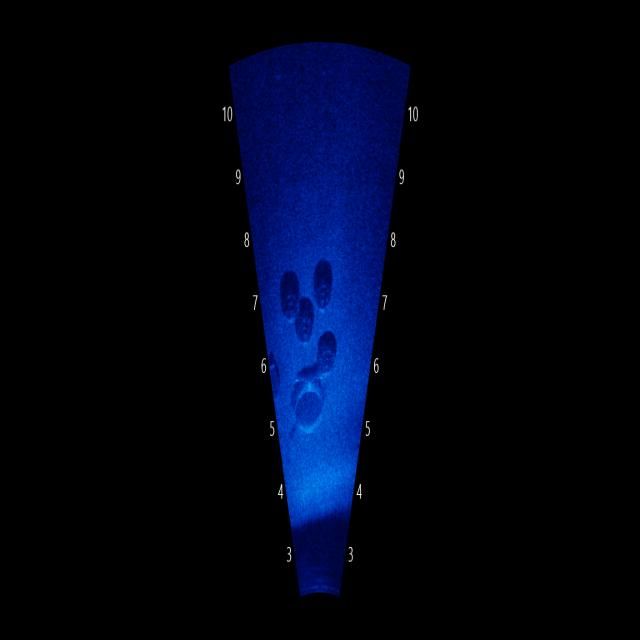circle: (290, 369, 329, 442), (309, 266, 341, 318)
